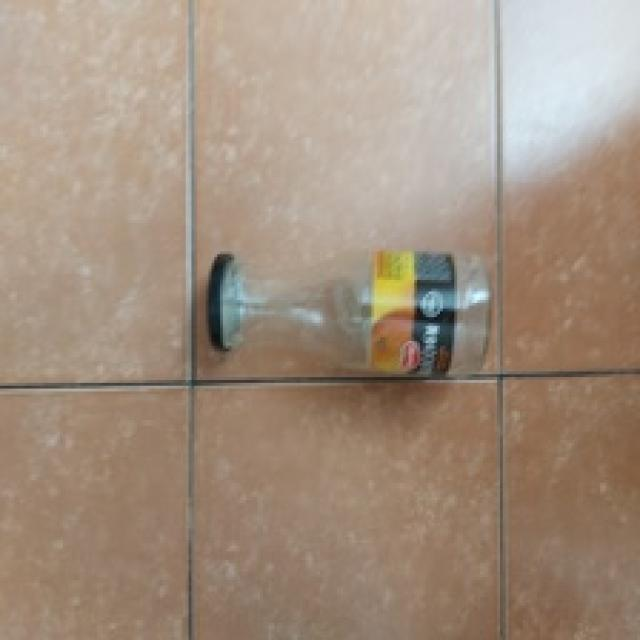Glass: (240, 245, 490, 378)
